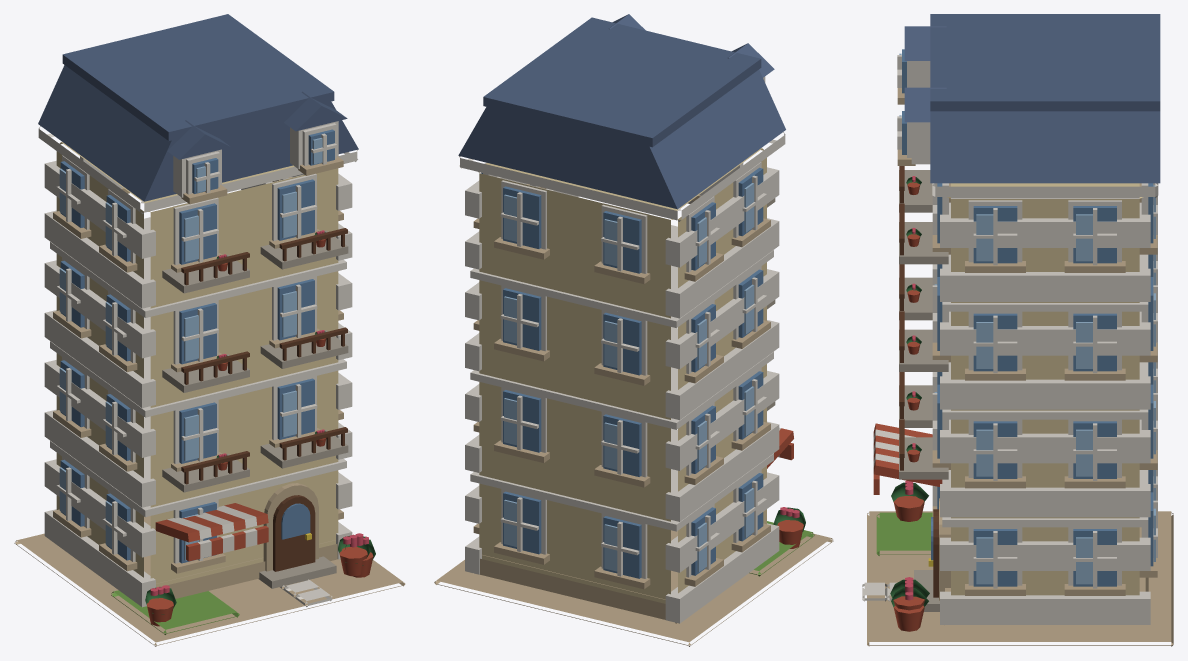
The model's file is building-tall-a.glb.
The picture shows the model from 3 angles, left to right: view 1: azimuth 30°, elevation 25°; view 2: azimuth 150°, elevation 25°; view 3: azimuth 270°, elevation 25°; orthographic projection. The views are drawn at different scales.
Parts seen in each view (by area): view 1: building-tall-a; view 2: building-tall-a; view 3: building-tall-a.
Part boxes in pixels (box(x1,y1,x2,y2)): building-tall-a: box(14, 14, 405, 646); building-tall-a: box(434, 14, 833, 646); building-tall-a: box(862, 14, 1173, 646).
Size of the model in its own units: 0.86 by 1.58 by 0.8521.
